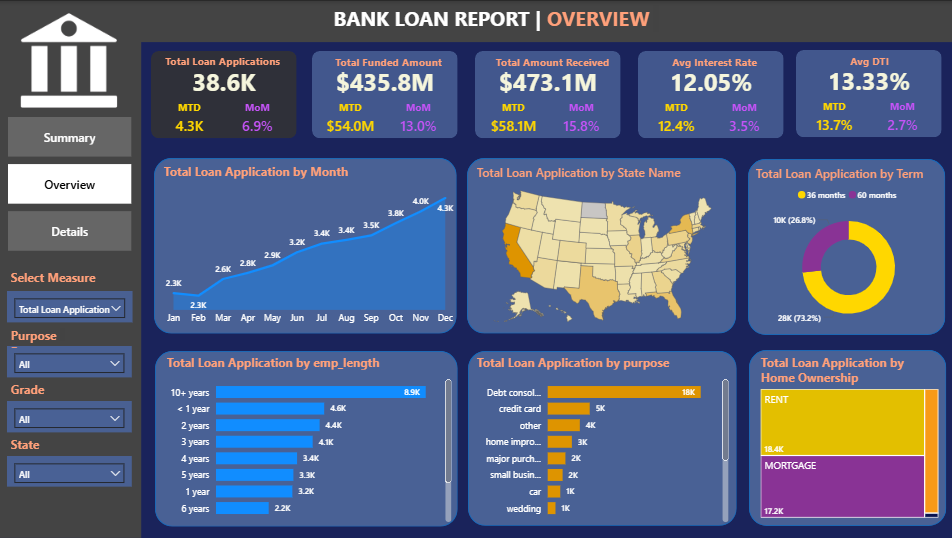

Layout of this report page (visuals, bound fields, positions):
{"tool":"powerbi","page":{"name":"Overview","canvas":[1280,720],"ordinal":1},"visuals":[{"type":"shape","box":[0,0,1280,55],"z":0},{"type":"shape","box":[1067.7,65.7,195.4,117],"z":0,"group":"g5"},{"type":"shape","box":[420,66.4,195.4,117],"z":0,"group":"g2"},{"type":"shape","box":[638.8,66.4,195.4,117],"z":0,"group":"g3"},{"type":"shape","box":[857.1,66.4,195.4,117],"z":0,"group":"g4"},{"type":"shape","box":[205.3,66.5,195.4,117],"z":0,"group":"g1"},{"type":"shape","box":[208.6,209.8,405,235],"z":500,"group":"g6"},{"type":"shape","box":[210,468.6,405,235],"z":500,"group":"g7"},{"type":"card","fields":{"Values":["bank_loan.Avg DTI"]},"box":[1067.7,83.6,195.4,49.5],"z":1000,"group":"g5"},{"type":"card","fields":{"Values":["bank_loan.Total Funded Amount"]},"box":[420,84.3,195.4,49.5],"z":1000,"group":"g2"},{"type":"card","fields":{"Values":["bank_loan.Total Amount Received"]},"box":[638.8,84.3,195.4,49.5],"z":1000,"group":"g3"},{"type":"card","fields":{"Values":["bank_loan.Avg Interest Rate"]},"box":[857.1,84.3,195.4,49.5],"z":1000,"group":"g4"},{"type":"card","fields":{"Values":["bank_loan.Total Loan Application"]},"box":[205.3,84.4,195.4,49.5],"z":1000,"group":"g1"},{"type":"shape","box":[627.1,209.5,360.6,235.4],"z":1000},{"type":"shape","box":[0,53.3,191.7,665],"z":2000},{"type":"textbox","box":[207.7,65.5,186.4,37.9],"z":2000,"group":"g1"},{"type":"textbox","box":[1072.7,65.8,186.4,37.9],"z":2000,"group":"g5"},{"type":"textbox","box":[428.5,66.5,186.4,37.9],"z":2000,"group":"g2"},{"type":"textbox","box":[649.1,66.5,186.4,37.9],"z":2000,"group":"g3"},{"type":"textbox","box":[865.5,66.5,186.4,37.9],"z":2000,"group":"g4"},{"type":"textbox","box":[439.8,0,448.5,53.9],"z":3000},{"type":"card","title":"MTD","fields":{"Values":["bank_loan.MTD Avg DTI"]},"box":[1055.3,133.1,126.6,52.3],"z":3000,"group":"g5"},{"type":"card","title":"MTD","fields":{"Values":["bank_loan.MTD Funded Amount"]},"box":[407.6,133.8,126.6,52.3],"z":3000,"group":"g2"},{"type":"card","title":"MTD","fields":{"Values":["bank_loan.MTD Amount Received"]},"box":[626.4,133.8,126.6,52.3],"z":3000,"group":"g3"},{"type":"card","title":"MTD","fields":{"Values":["bank_loan.MTD Avg Int Rate"]},"box":[844.7,133.8,126.6,52.3],"z":3000,"group":"g4"},{"type":"card","title":"MTD","fields":{"Values":["bank_loan.MTD Loan Applications"]},"box":[192.9,133.9,126.6,52.3],"z":3000,"group":"g1"},{"type":"group","id":"g1","title":"Group 1","box":[192.9,65.5,218.6,121.4],"z":4000},{"type":"card","title":"MoM","fields":{"Values":["bank_loan.MoM Avg DTI"]},"box":[1146.1,133.1,126.6,52.3],"z":4000,"group":"g5"},{"type":"card","title":"MoM","fields":{"Values":["bank_loan.MoM Funded Amount"]},"box":[498.4,133.8,126.6,52.3],"z":4000,"group":"g2"},{"type":"card","title":"MoM","fields":{"Values":["bank_loan.MoM Amount Received"]},"box":[717.2,133.8,126.6,52.3],"z":4000,"group":"g3"},{"type":"card","title":"MoM","fields":{"Values":["bank_loan.MoM Avg Interest Rate"]},"box":[935.5,133.8,126.6,52.3],"z":4000,"group":"g4"},{"type":"card","title":"MoM","fields":{"Values":["bank_loan.MoM Loan Applications"]},"box":[283.7,133.9,126.6,52.3],"z":4000,"group":"g1"},{"type":"group","id":"g2","title":"Group 1","box":[407.6,66.4,217.5,119.7],"z":5000},{"type":"group","id":"g3","title":"Group 1","box":[626.4,66.4,217.5,119.7],"z":6000},{"type":"group","id":"g4","title":"Group 1","box":[844.7,66.4,217.5,119.7],"z":7000},{"type":"group","id":"g5","title":"Group 1","box":[1055.3,65.7,217.5,119.7],"z":8000},{"type":"slicer","fields":{"Values":["bank_loan.State Name"]},"box":[12.1,608.6,167.1,41.4],"z":9000},{"type":"textbox","box":[11.7,578.3,83.3,36.7],"z":10000},{"type":"slicer","fields":{"Values":["bank_loan.grade"]},"box":[12.7,535,166.7,41.7],"z":11000},{"type":"textbox","box":[12,505,83.3,36.7],"z":12000},{"type":"slicer","fields":{"Values":["bank_loan.purpose"]},"box":[12.7,462,166.7,41.7],"z":13000},{"type":"textbox","box":[12,432,83.3,36.7],"z":14000},{"type":"image","box":[21.7,0,146.7,155],"z":15000},{"type":"group","id":"g6","title":"Group 2","box":[208.6,209.8,405,235],"z":16000},{"type":"areaChart","fields":{"Y":["bank_loan.Total Loan Application"],"Category":["Date Table.Month"]},"box":[217.1,216.1,400,225.6],"z":17000},{"type":"slicer","fields":{"Values":["Select Measure.Select Measure"]},"box":[12,388,168,42],"z":18000},{"type":"textbox","box":[12,354,157,37],"z":19000},{"type":"shapeMap","fields":{"Value":["bank_loan.Total Loan Application"],"Category":["bank_loan.State Name"]},"box":[635.4,217.8,346.8,225.7],"z":20000},{"type":"shape","box":[1004.3,211.9,264.3,235.7],"z":21000},{"type":"donutChart","fields":{"Y":["bank_loan.Total Loan Application"],"Category":["bank_loan.term"]},"box":[1008.6,219,258.6,225.7],"z":22000},{"type":"group","id":"g7","title":"Group 2","box":[210,468.6,404.3,234.3],"z":23000},{"type":"shape","box":[628.6,468.6,360,234.3],"z":24000},{"type":"shape","box":[1005.7,467.1,264.3,235.7],"z":25000},{"type":"barChart","fields":{"Y":["bank_loan.Total Loan Application"],"Category":["bank_loan.emp_length"]},"box":[221.4,472.9,391.4,230],"z":26000},{"type":"barChart","fields":{"Y":["bank_loan.Total Loan Application"],"Category":["bank_loan.purpose"]},"box":[635.7,472.9,347.1,230],"z":27000},{"type":"treemap","fields":{"Values":["bank_loan.Total Loan Application"],"Group":["bank_loan.home_ownership"]},"box":[1016.2,472.5,247.5,223.8],"z":28000},{"type":"pageNavigator","box":[12.9,155.7,165.7,180],"z":28001}]}

Visuals, with their boxes in screenshot pixels (x1, y1, x2, y2), scaled from the page's 1280x720 canvas onto the 952x538 screenshot:
shape: locate(0, 0, 951, 41)
shape: locate(794, 49, 939, 137)
shape: locate(312, 50, 458, 137)
shape: locate(475, 50, 620, 137)
shape: locate(637, 50, 783, 137)
shape: locate(153, 50, 298, 137)
shape: locate(155, 157, 456, 332)
shape: locate(156, 350, 457, 526)
card - bank_loan.Avg DTI: locate(794, 62, 939, 99)
card - bank_loan.Total Funded Amount: locate(312, 63, 458, 100)
card - bank_loan.Total Amount Received: locate(475, 63, 620, 100)
card - bank_loan.Avg Interest Rate: locate(637, 63, 783, 100)
card - bank_loan.Total Loan Application: locate(153, 63, 298, 100)
shape: locate(466, 157, 735, 332)
shape: locate(0, 40, 143, 537)
textbox: locate(154, 49, 293, 77)
textbox: locate(798, 49, 936, 77)
textbox: locate(319, 50, 457, 78)
textbox: locate(483, 50, 621, 78)
textbox: locate(644, 50, 782, 78)
textbox: locate(327, 0, 661, 40)
"MTD" card: locate(785, 99, 879, 139)
"MTD" card: locate(303, 100, 397, 139)
"MTD" card: locate(466, 100, 560, 139)
"MTD" card: locate(628, 100, 722, 139)
"MTD" card: locate(143, 100, 238, 139)
"Group 1" group: locate(143, 49, 306, 140)
"MoM" card: locate(852, 99, 947, 139)
"MoM" card: locate(371, 100, 465, 139)
"MoM" card: locate(533, 100, 628, 139)
"MoM" card: locate(696, 100, 790, 139)
"MoM" card: locate(211, 100, 305, 139)
"Group 1" group: locate(303, 50, 465, 139)
"Group 1" group: locate(466, 50, 628, 139)
"Group 1" group: locate(628, 50, 790, 139)
"Group 1" group: locate(785, 49, 947, 139)
slicer - bank_loan.State Name: locate(9, 455, 133, 486)
textbox: locate(9, 432, 71, 460)
slicer - bank_loan.grade: locate(9, 400, 133, 431)
textbox: locate(9, 377, 71, 405)
slicer - bank_loan.purpose: locate(9, 345, 133, 376)
textbox: locate(9, 323, 71, 350)
image: locate(16, 0, 125, 116)
"Group 2" group: locate(155, 157, 456, 332)
areaChart - bank_loan.Total Loan Application x Date Table.Month: locate(161, 161, 459, 330)
slicer - Select Measure.Select Measure: locate(9, 290, 134, 321)
textbox: locate(9, 265, 126, 292)
shapeMap - bank_loan.Total Loan Application x bank_loan.State Name: locate(473, 163, 731, 331)
shape: locate(747, 158, 944, 334)
donutChart - bank_loan.Total Loan Application x bank_loan.term: locate(750, 164, 942, 332)
"Group 2" group: locate(156, 350, 457, 525)
shape: locate(468, 350, 735, 525)
shape: locate(748, 349, 945, 525)
barChart - bank_loan.Total Loan Application x bank_loan.emp_length: locate(165, 353, 456, 525)
barChart - bank_loan.Total Loan Application x bank_loan.purpose: locate(473, 353, 731, 525)
treemap - bank_loan.Total Loan Application x bank_loan.home_ownership: locate(756, 353, 940, 520)
pageNavigator: locate(10, 116, 133, 251)
